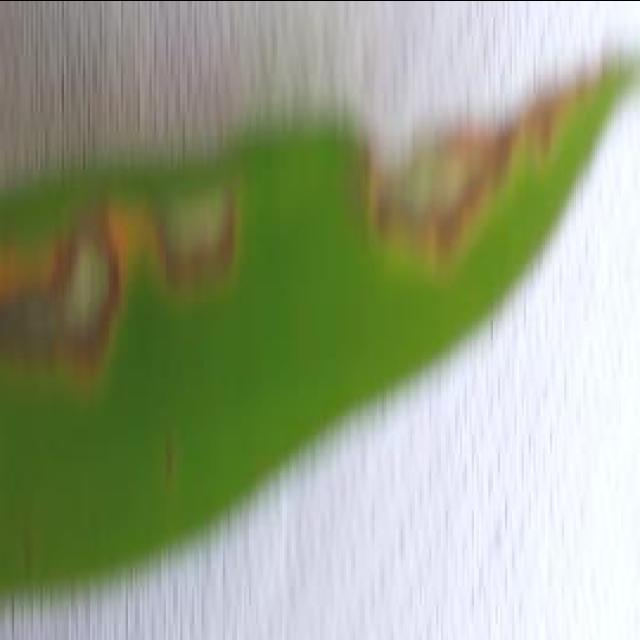Leaf_Blast: (0, 189, 131, 374), (138, 176, 296, 306)
